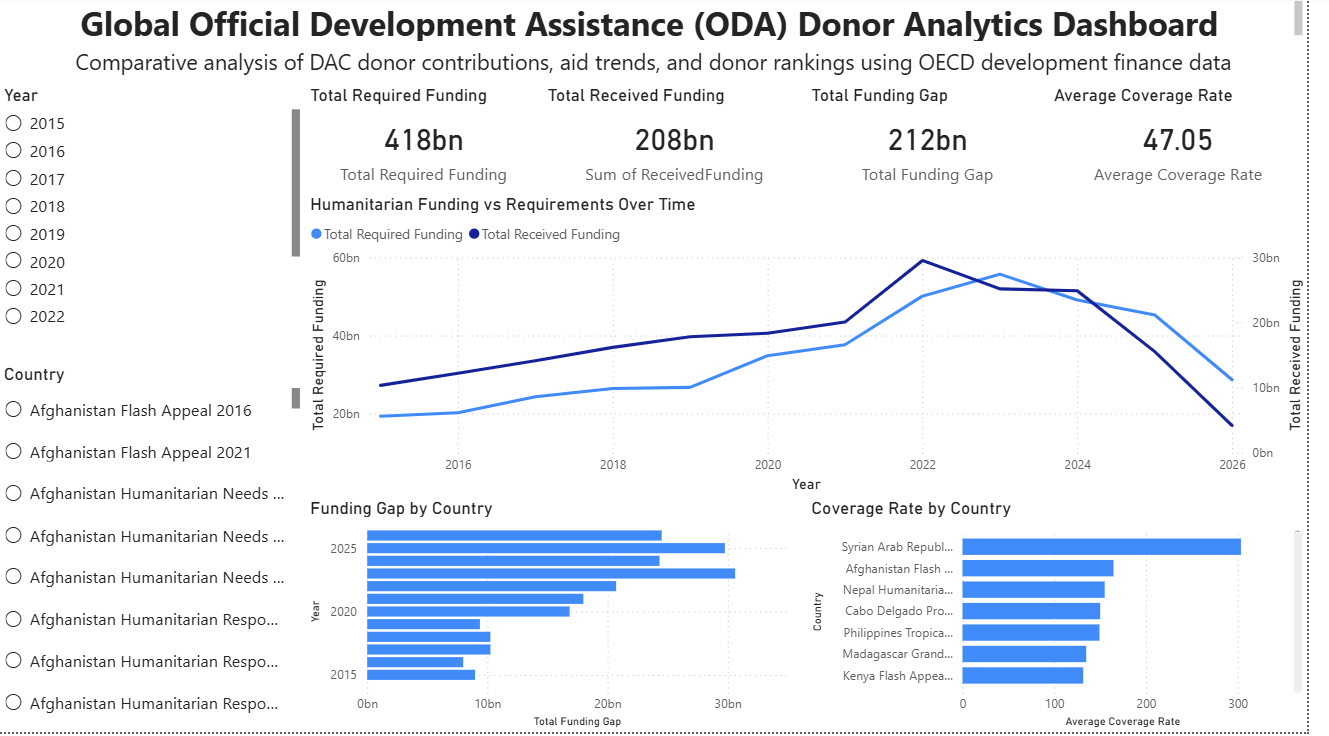

The page's visual inventory and layout, read from the dashboard file:
{"tool":"powerbi","page":{"name":"Executive Overview","canvas":[1280,720],"ordinal":0},"visuals":[{"type":"lineChart","title":"Humanitarian Funding vs Requirements Over Time","fields":{"Category":["fts_requirements_funding_summary_country_year.Year"],"Y":["fts_requirements_funding_summary_country_year.Total Required Funding"],"Y2":["fts_requirements_funding_summary_country_year.Total Received Funding"]},"box":[299.6,193.2,980.7,297.1],"z":0},{"type":"clusteredBarChart","title":"Funding Gap by Country","fields":{"Category":["fts_requirements_funding_summary_country_year.Year"],"Y":["fts_requirements_funding_summary_country_year.Total Funding Gap"]},"box":[299.1,489.9,491.3,230.5],"z":1000},{"type":"clusteredBarChart","title":"Coverage Rate by Country","fields":{"Y":["fts_requirements_funding_summary_country_year.Average Coverage Rate"],"Category":["fts_requirements_funding_summary_country_year.Country"]},"box":[790.4,489.9,489.9,230.5],"z":2000},{"type":"card","title":"Total Required Funding","fields":{"Values":["fts_requirements_funding_summary_country_year.Total Required Funding"]},"box":[299.6,86.8,232.3,106.4],"z":3000},{"type":"card","title":"Total Received Funding","fields":{"Values":["Sum(fts_requirements_funding_summary_country_year.ReceivedFunding)"]},"box":[531.9,86.8,258,106.4],"z":4000},{"type":"card","title":"Total Funding Gap","fields":{"Values":["fts_requirements_funding_summary_country_year.Total Funding Gap"]},"box":[789.9,86.8,237.2,106.4],"z":5000},{"type":"card","title":"Average Coverage Rate","fields":{"Values":["fts_requirements_funding_summary_country_year.Average Coverage Rate"]},"box":[1027.2,86.8,253.1,106.4],"z":6000},{"type":"listSlicer","fields":{"Values":["fts_requirements_funding_summary_country_year.Year"]},"box":[0,86.8,299.6,249.5],"z":7000},{"type":"listSlicer","fields":{"Values":["fts_requirements_funding_summary_country_year.Country"]},"box":[0,359.5,299.1,360.9],"z":8000},{"type":"textbox","box":[0,0,1280.3,54.9],"z":8001},{"type":"textbox","box":[0,44,1280.3,42.8],"z":8002}]}

Visuals, with their boxes in screenshot pixels (x1, y1, x2, y2), scaled from the page's 1280x720 canvas onto the 1329x736 screenshot:
"Humanitarian Funding vs Requirements Over Time" lineChart: x1=311 y1=197 x2=1328 y2=501
"Funding Gap by Country" clusteredBarChart: x1=311 y1=501 x2=821 y2=735
"Coverage Rate by Country" clusteredBarChart: x1=821 y1=501 x2=1328 y2=735
"Total Required Funding" card: x1=311 y1=89 x2=552 y2=197
"Total Received Funding" card: x1=552 y1=89 x2=820 y2=197
"Total Funding Gap" card: x1=820 y1=89 x2=1066 y2=197
"Average Coverage Rate" card: x1=1067 y1=89 x2=1328 y2=197
listSlicer - fts_requirements_funding_summary_country_year.Year: x1=0 y1=89 x2=311 y2=344
listSlicer - fts_requirements_funding_summary_country_year.Country: x1=0 y1=367 x2=311 y2=735
textbox: x1=0 y1=0 x2=1328 y2=56
textbox: x1=0 y1=45 x2=1328 y2=89
